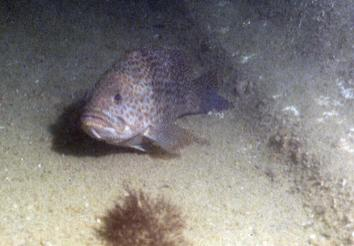Serranidae -Groupers-: (74, 43, 233, 157)
